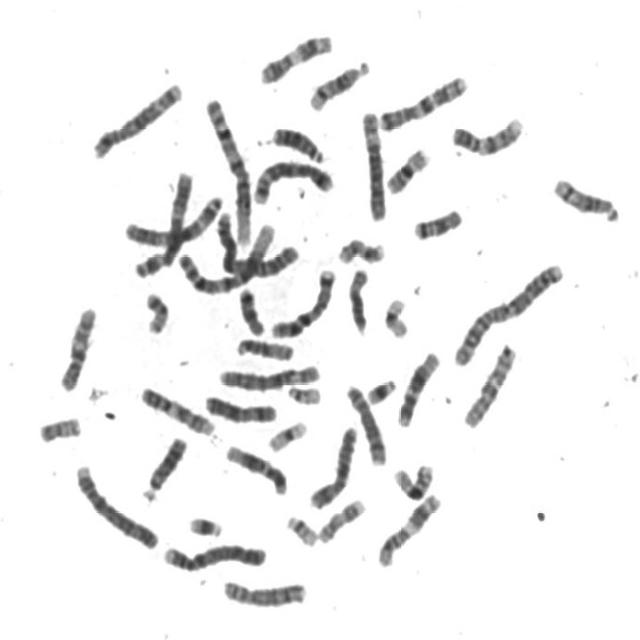A1: (200, 90, 256, 250), (174, 214, 279, 296)
A2: (449, 254, 569, 368), (212, 205, 304, 281)
A3: (130, 164, 198, 279), (121, 187, 227, 249)
B4: (71, 457, 162, 551), (159, 535, 270, 573)
B5: (88, 74, 187, 160), (248, 153, 338, 206)
C10: (459, 336, 521, 430), (55, 299, 100, 393)
C11: (373, 486, 445, 569), (256, 26, 336, 85)
C12: (394, 343, 444, 429), (222, 437, 292, 496)
C6: (357, 103, 392, 223), (214, 355, 325, 392)
C7: (374, 68, 472, 132), (267, 262, 339, 340)
C8: (341, 377, 391, 467), (218, 571, 312, 610)
C9: (137, 379, 220, 437), (448, 108, 528, 157)
D13: (139, 428, 191, 502), (268, 119, 329, 164)
D14: (306, 53, 374, 112), (549, 170, 623, 223)
D15: (232, 330, 298, 362), (345, 261, 373, 336)
E16: (383, 140, 433, 196), (389, 456, 438, 502)
E17: (314, 491, 369, 545), (334, 231, 389, 266)
E18: (409, 201, 466, 241), (234, 281, 268, 336)
F19: (264, 413, 311, 454), (380, 290, 413, 340)
F20: (35, 409, 85, 444), (141, 284, 173, 336)
G21: (362, 370, 400, 406), (185, 509, 227, 539)
G22: (281, 508, 321, 548), (283, 378, 325, 406)
X: (306, 418, 362, 511), (200, 387, 280, 425)
